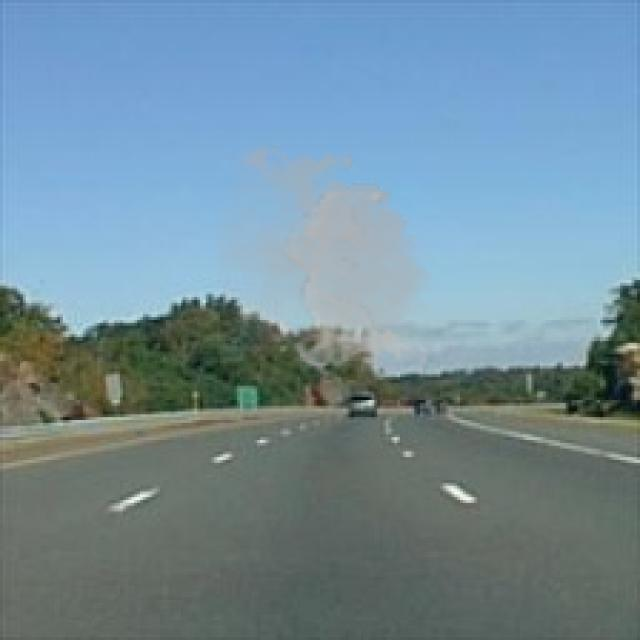smoke: (217, 137, 440, 374)
